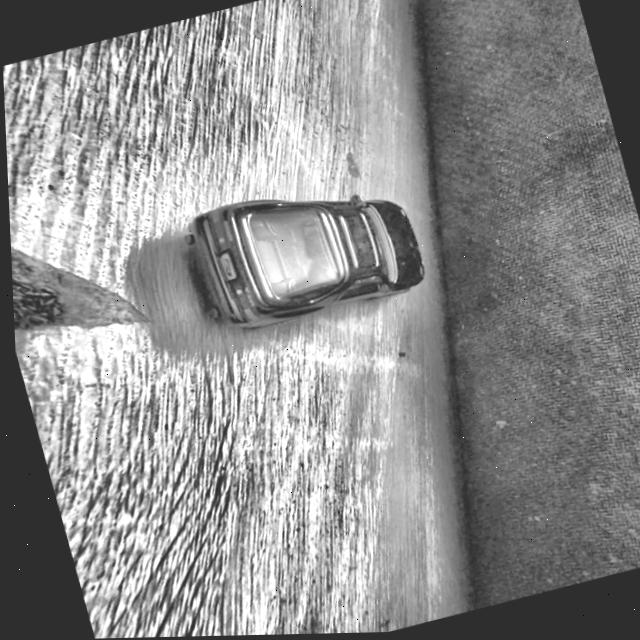car: (176, 163, 430, 345)
